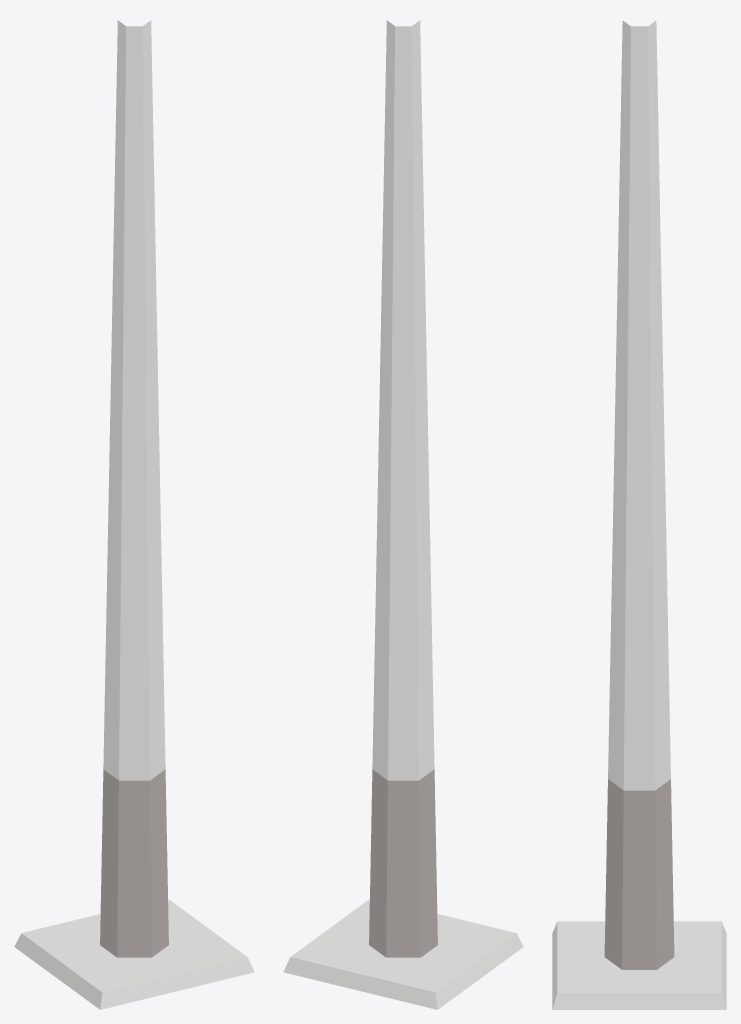
The model's file is windmill-base.glb.
3 views of the same model, side by side, from view 1: azimuth 30°, elevation 25°; view 2: azimuth 150°, elevation 25°; view 3: azimuth 270°, elevation 25° (orthographic).
Visible parts, largest first — view 1: windmill-base; view 2: windmill-base; view 3: windmill-base.
Part boxes in pixels (x1,y1,x2,y2): windmill-base: (14, 20, 254, 1009); windmill-base: (283, 20, 523, 1009); windmill-base: (552, 20, 726, 1009).
Size of the model in its own units: 2.5 by 14.53 by 2.41.
1 material, 1 textured.
